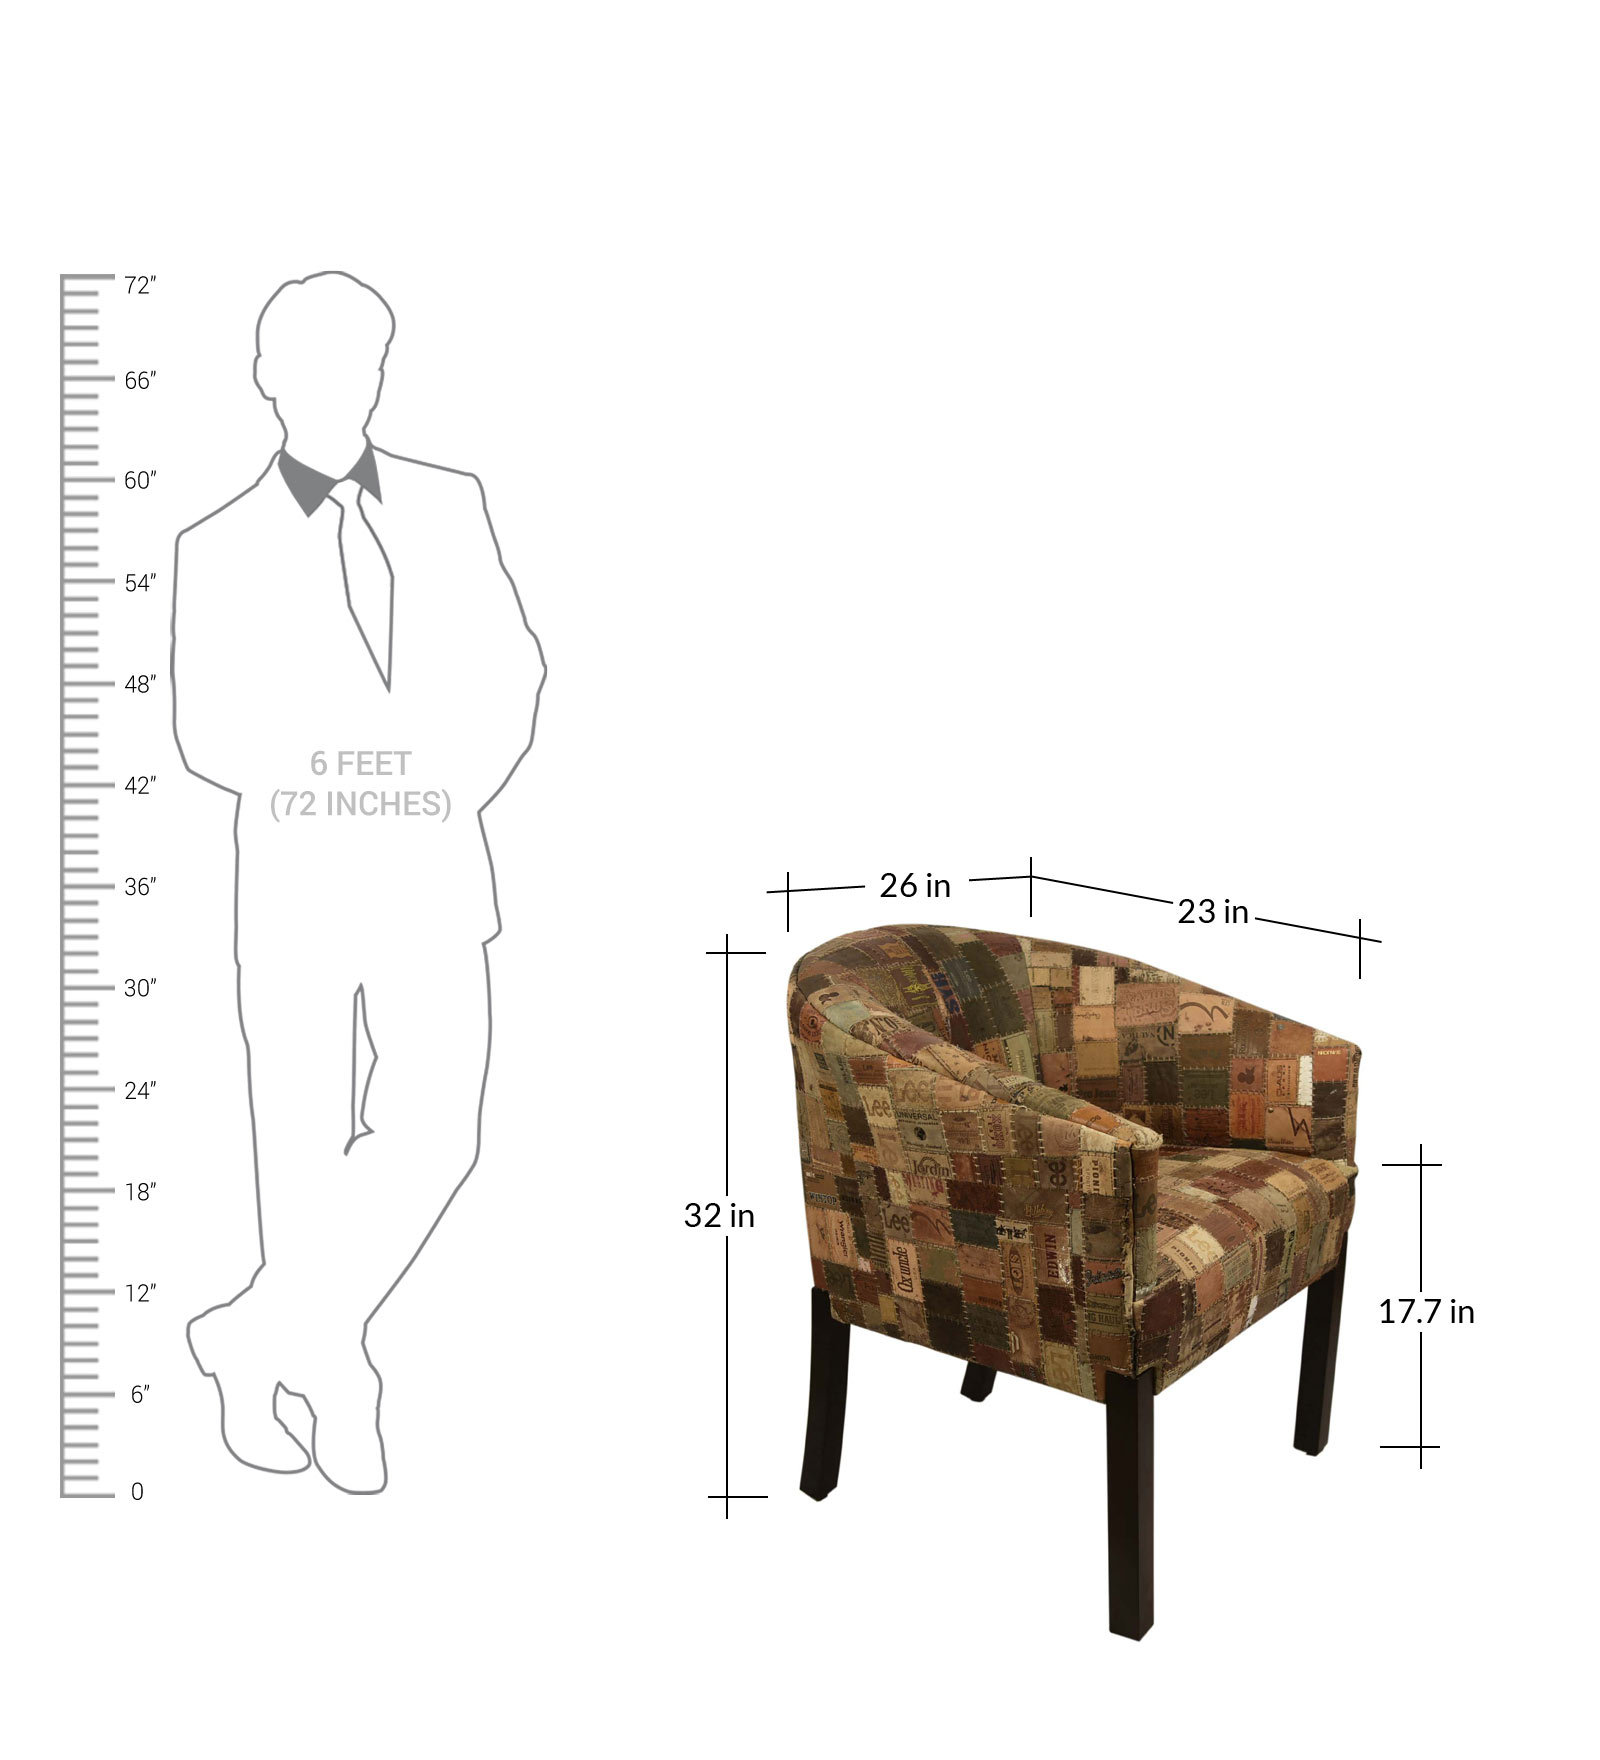Toby Tob Innova Chair with Denim Label Patch Design by Inliving: (763, 921, 1372, 1671)
